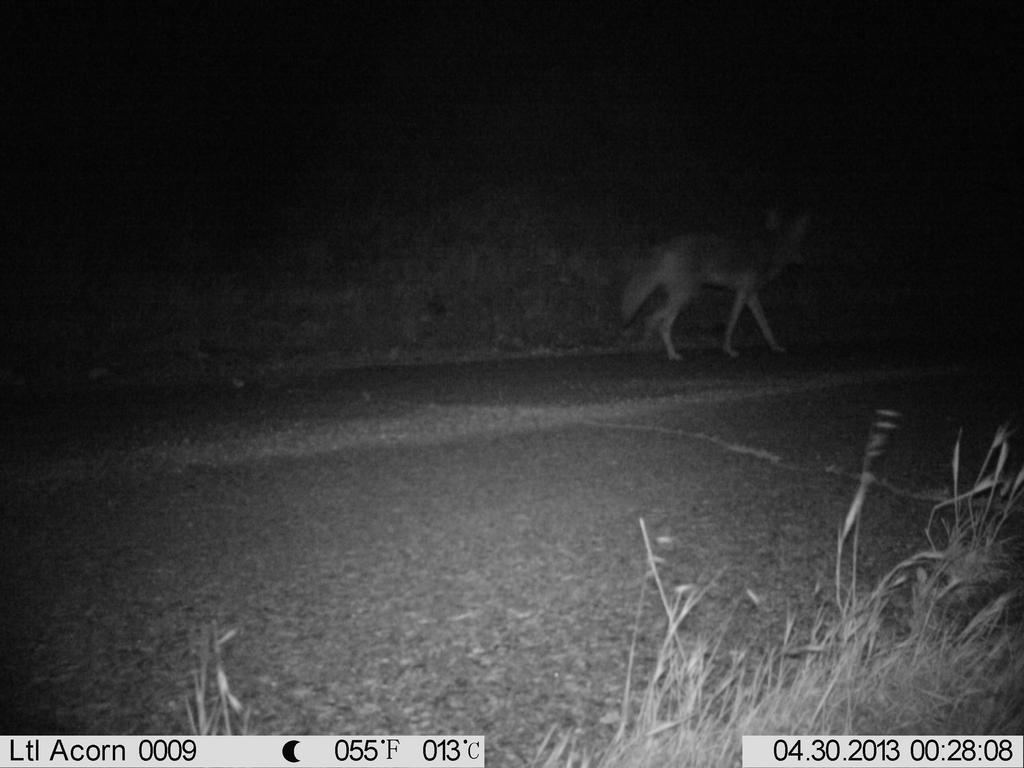coyote: (610, 195, 823, 369)
